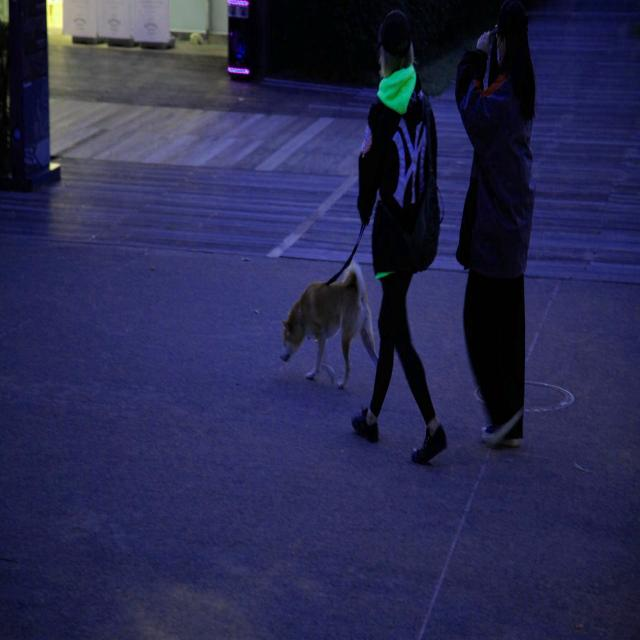Leashed_Dog: (280, 194, 395, 390)
